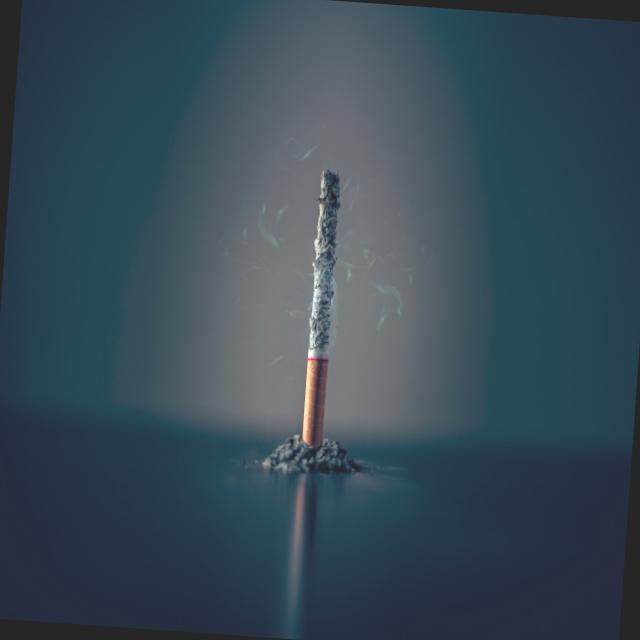cigarette: (298, 160, 351, 454)
